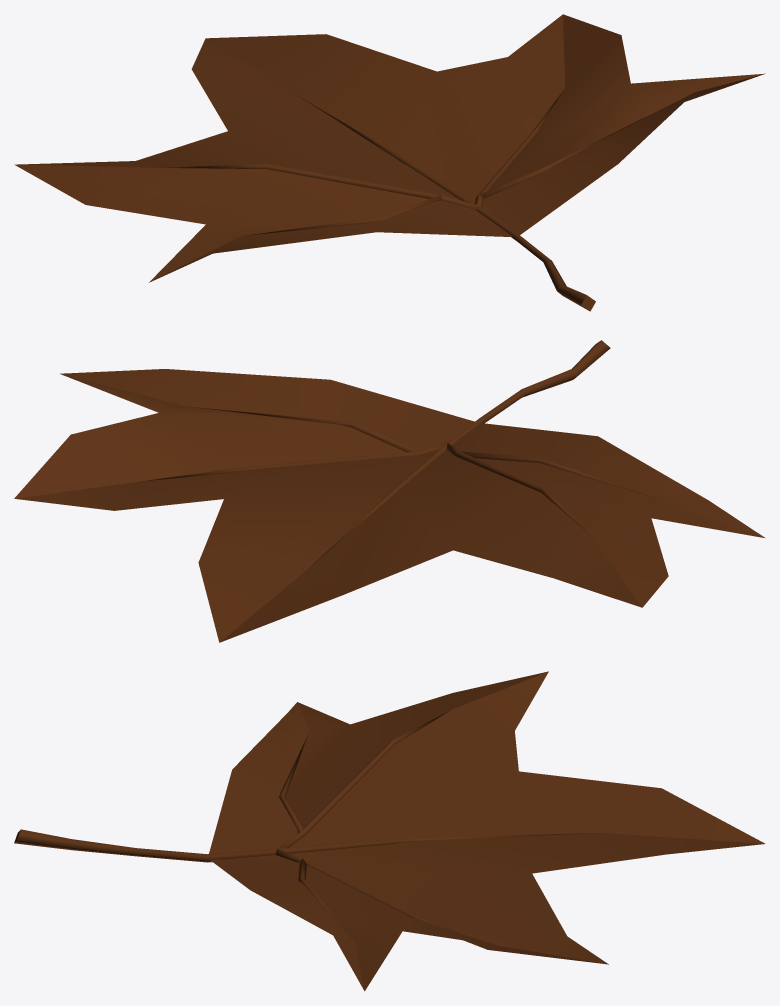
Rendered from IL3DN_Dead_Leaf_02.fbx.
3 views of the same model, one above another, from view 1: azimuth 30°, elevation 25°; view 2: azimuth 150°, elevation 25°; view 3: azimuth 270°, elevation 25° (orthographic). The views are drawn at different scales.
Parts seen in each view (by area): view 1: Nature_Dead_Leaf_02; view 2: Nature_Dead_Leaf_02; view 3: Nature_Dead_Leaf_02.
Part boxes in pixels (box(x1,y1,x2,y2)): Nature_Dead_Leaf_02: box(14, 14, 765, 311); Nature_Dead_Leaf_02: box(14, 340, 765, 642); Nature_Dead_Leaf_02: box(14, 671, 765, 991).
Bounding box in the file's own units: 8.58 × 0.5906 × 8.57.
